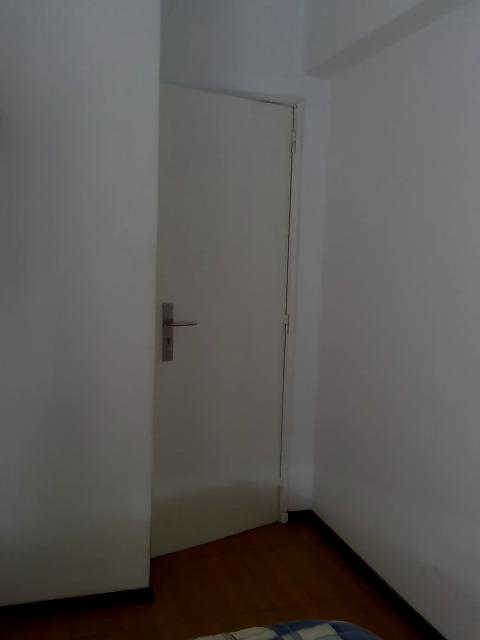closed_door: (151, 77, 301, 567)
